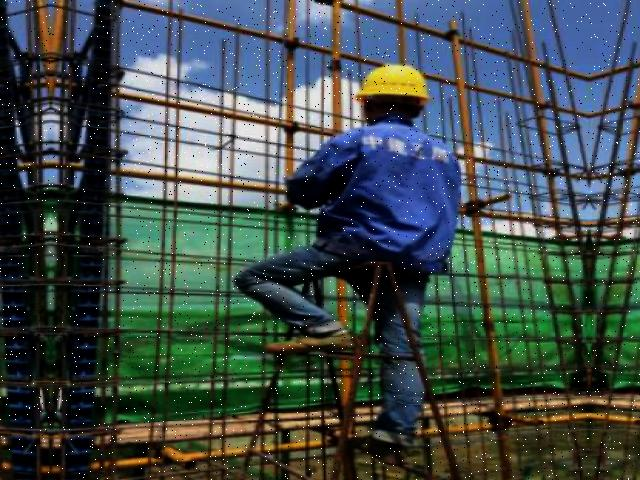Helmet: (348, 57, 434, 115)
